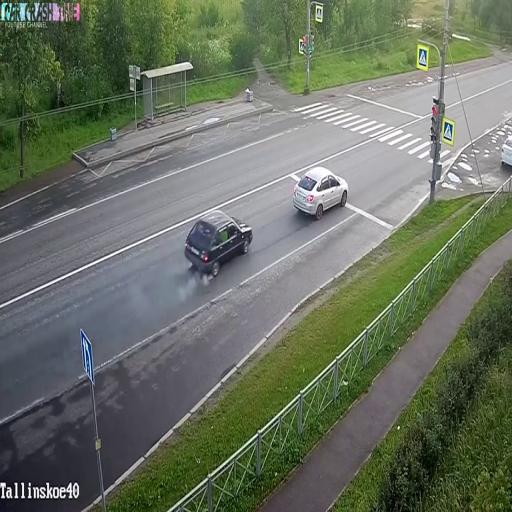小汽车: (184, 209, 253, 274), (292, 168, 349, 220), (497, 135, 512, 168)
